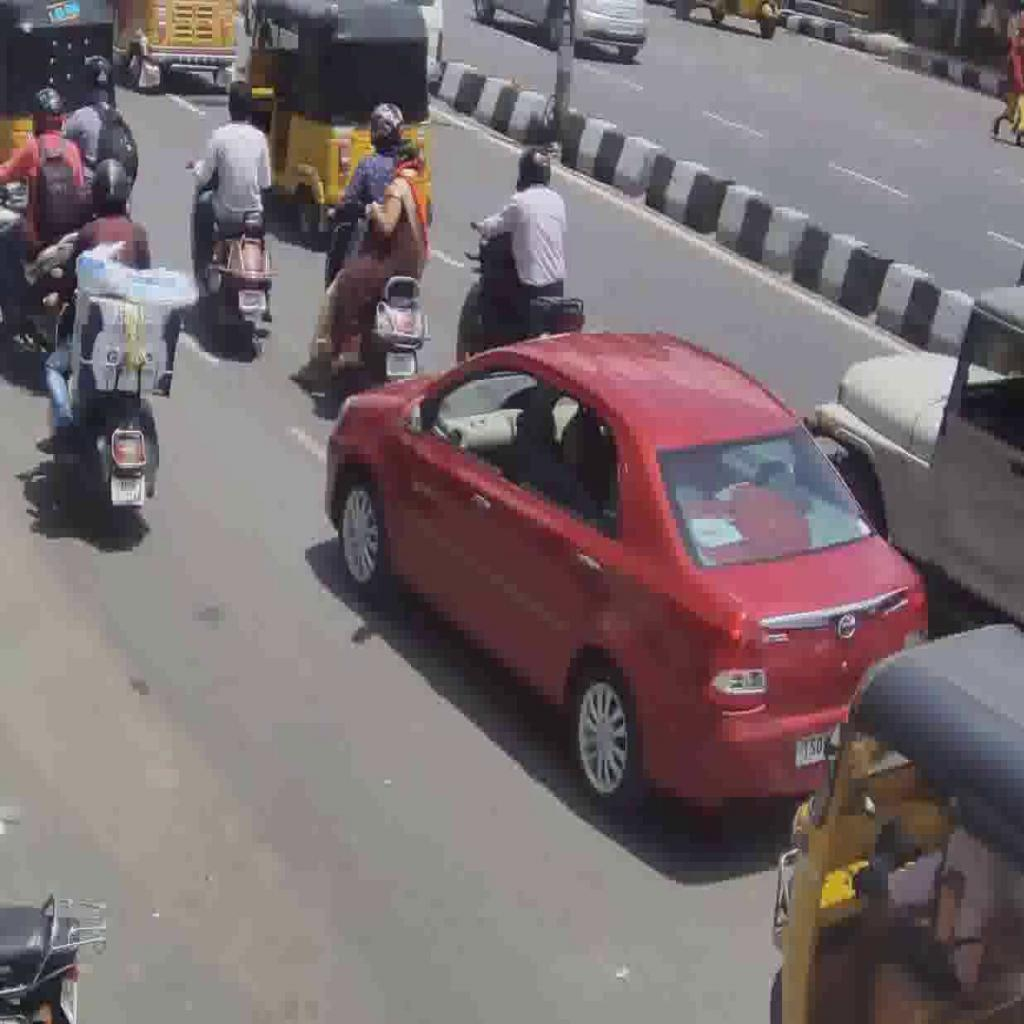helmet: (322, 202, 428, 385), (188, 164, 279, 352), (453, 218, 587, 342)
